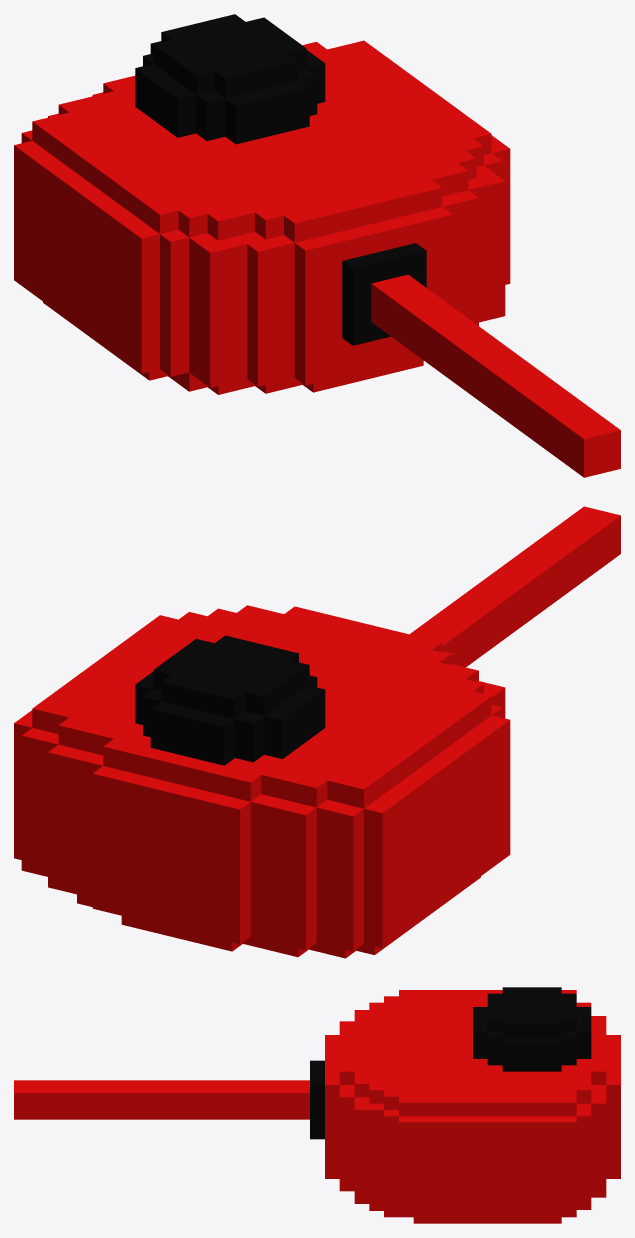
File: TankTurretRed.obj
The picture shows the model from 3 angles, top to bottom: view 1: azimuth 30°, elevation 25°; view 2: azimuth 150°, elevation 25°; view 3: azimuth 270°, elevation 25°; orthographic projection. The views are drawn at different scales.
Size of the model in its own units: 2 by 1.2 by 4.1.
Materials: 1 (1 with a texture image).
